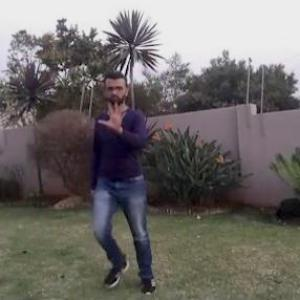follow_hand: (95, 96, 129, 136)
